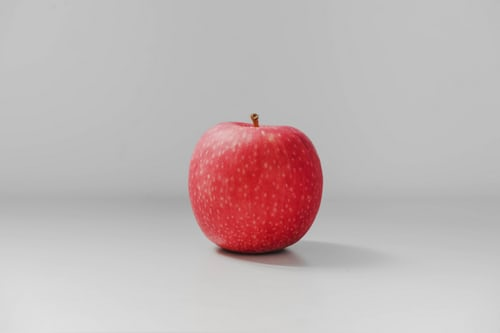apple: (182, 111, 326, 257)
